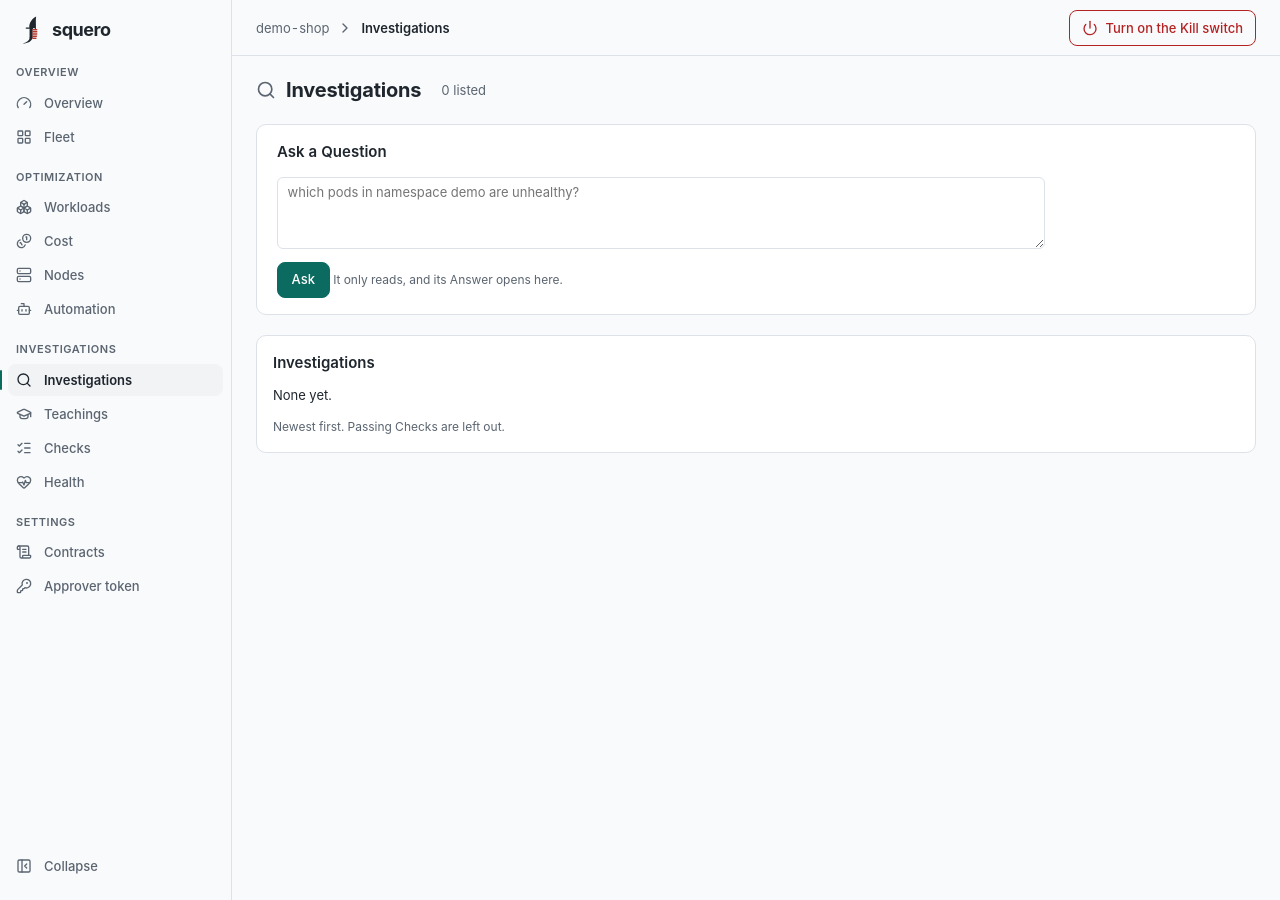
asking a Question posts it for the Contract shown, and a refusal shows the Hub's words
Type "is checkout healthy?" into the text box named "Question". click: (661, 212)
box: [277,176,1045,248]
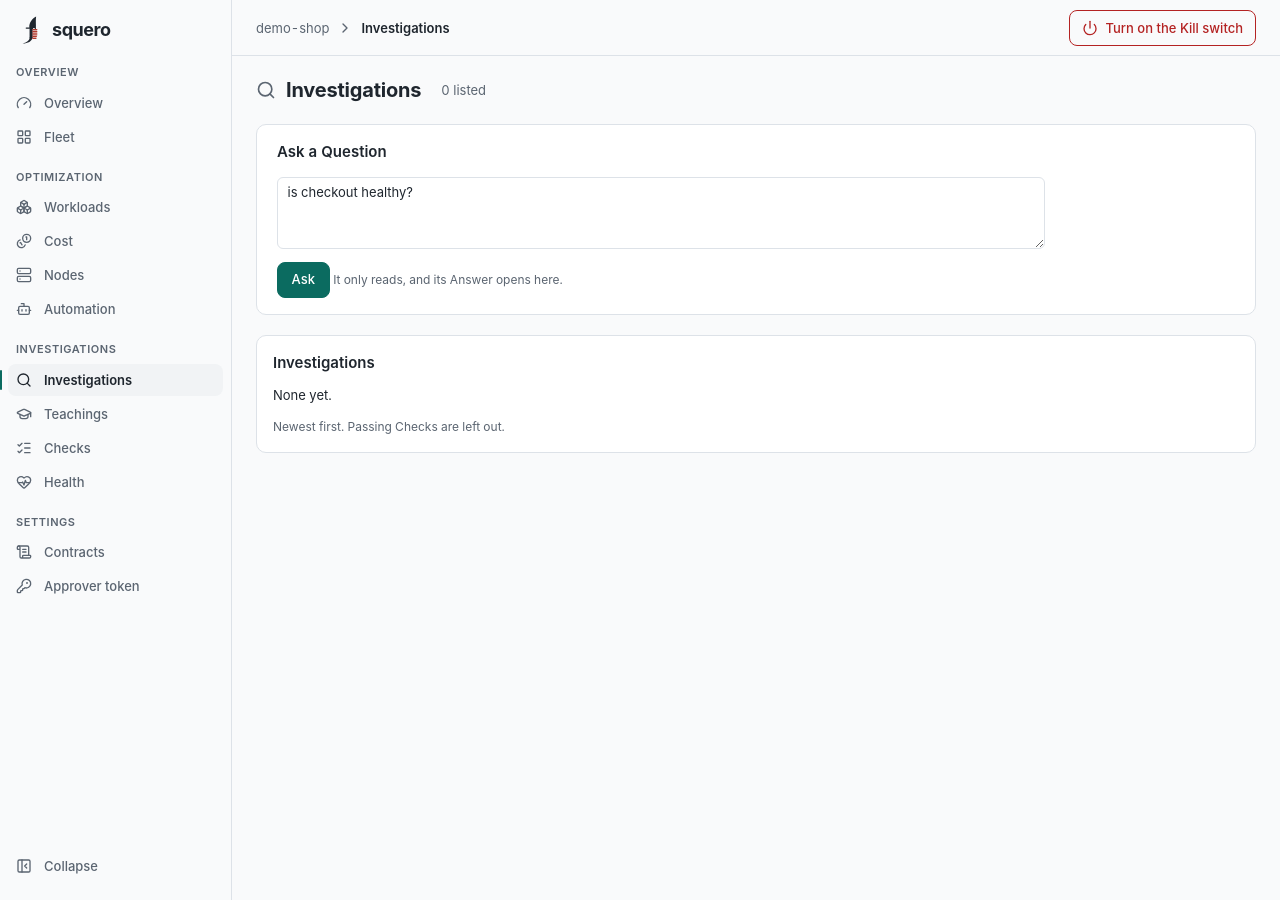
Click the button "Ask". click: (303, 280)
box: [277,262,330,298]
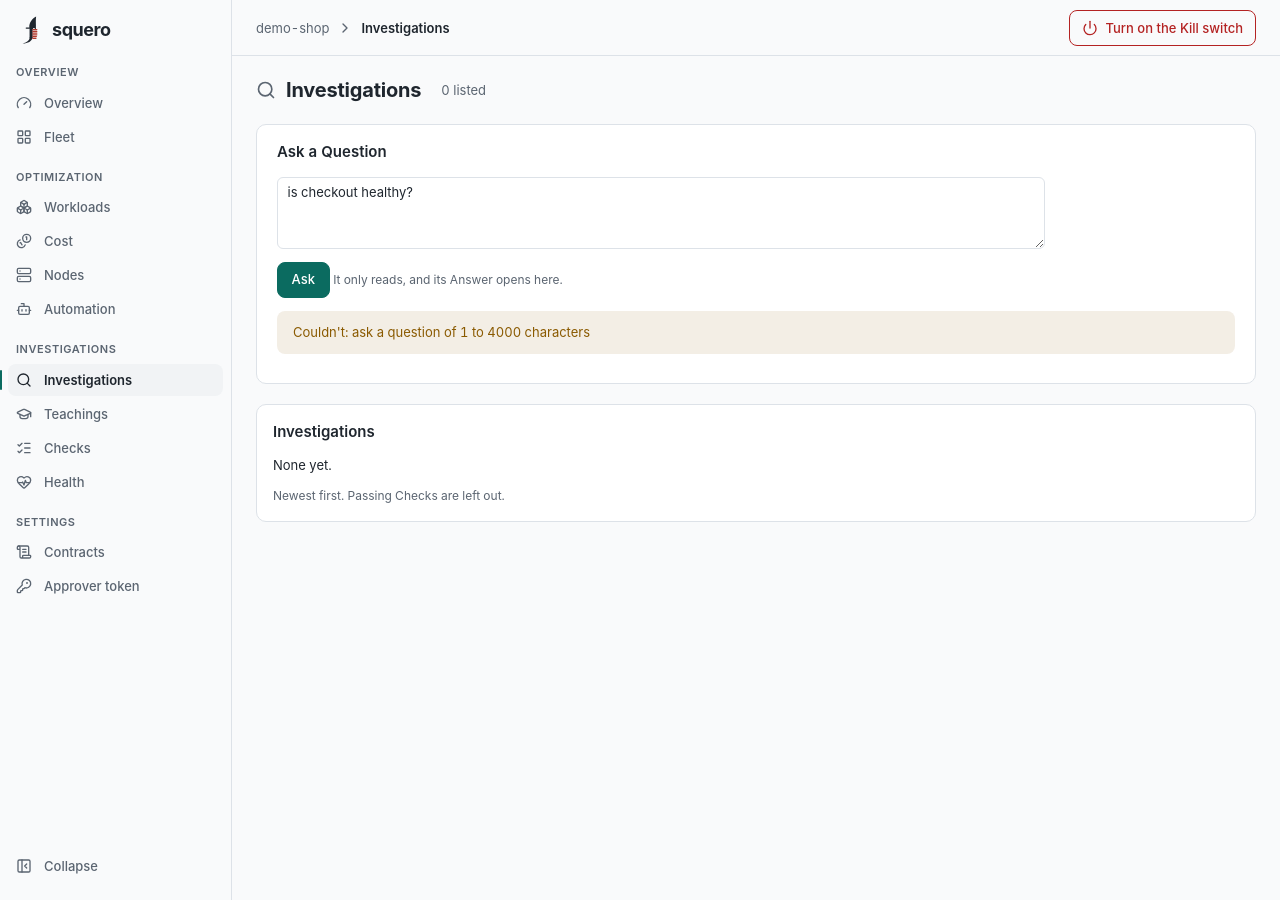
Expected: the text "Couldn't: ask a question of 1 to 4000 characters" is shown, [277,310,1235,354]
